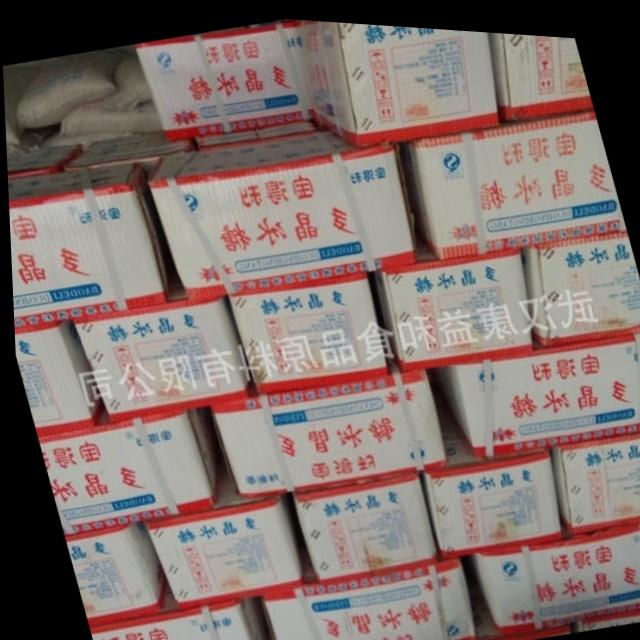box: (149, 122, 414, 296), (399, 99, 623, 253), (208, 362, 441, 493), (6, 160, 178, 329), (426, 322, 640, 452), (298, 16, 501, 147), (69, 289, 251, 421), (37, 400, 213, 535), (135, 15, 314, 141), (416, 396, 557, 553), (138, 471, 301, 606), (224, 267, 391, 389), (465, 513, 640, 628), (369, 242, 529, 366), (253, 551, 466, 640), (286, 463, 433, 577), (524, 221, 640, 338), (61, 521, 160, 626), (12, 319, 99, 434), (545, 424, 640, 528), (86, 590, 261, 640), (489, 26, 590, 112), (63, 123, 187, 170), (5, 144, 86, 177)
